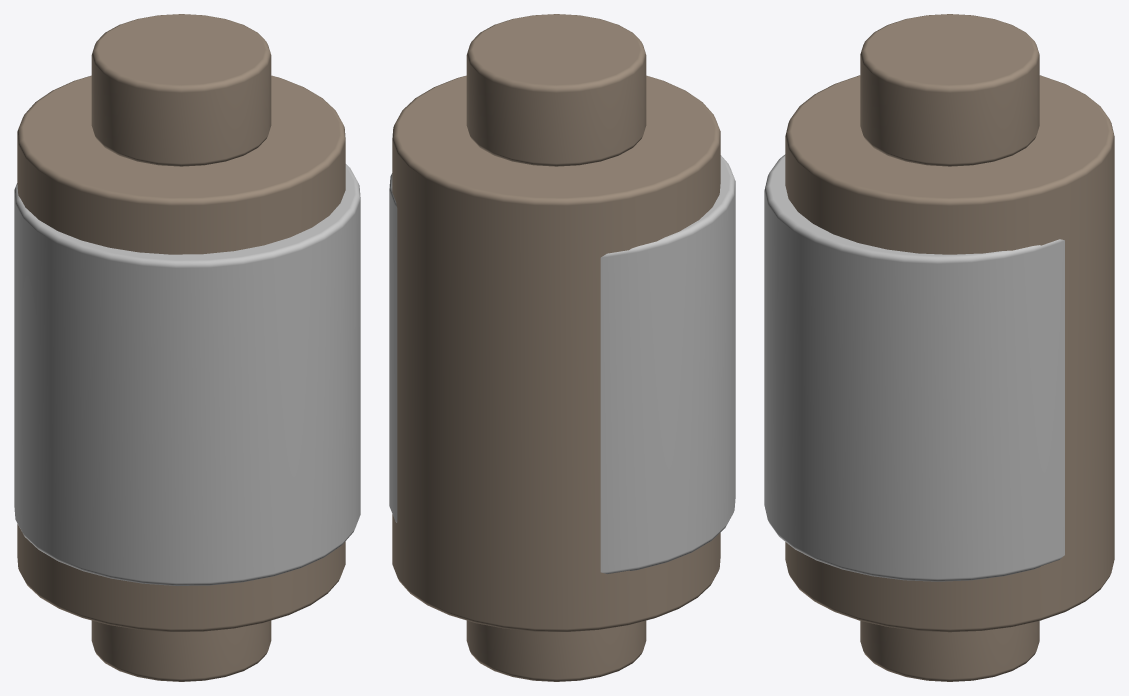
The model's file is Catalyst.fbx.
3 views of the same model, side by side, from view 1: azimuth 30°, elevation 25°; view 2: azimuth 150°, elevation 25°; view 3: azimuth 270°, elevation 25° (orthographic).
Parts seen in each view (by area): view 1: Catalyst_LOD0; view 2: Catalyst_LOD0; view 3: Catalyst_LOD0.
Part boxes in pixels (box(x1,y1,x2,y2)): Catalyst_LOD0: box(14, 14, 360, 681); Catalyst_LOD0: box(389, 14, 735, 681); Catalyst_LOD0: box(764, 14, 1114, 681).
Size of what is drawn, in the model's own units: 0.116 by 0.22 by 0.117.
